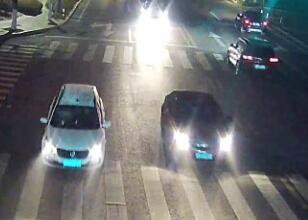car: (38, 81, 112, 174), (158, 89, 234, 163), (223, 36, 287, 80), (126, 0, 178, 29), (231, 6, 275, 36)
